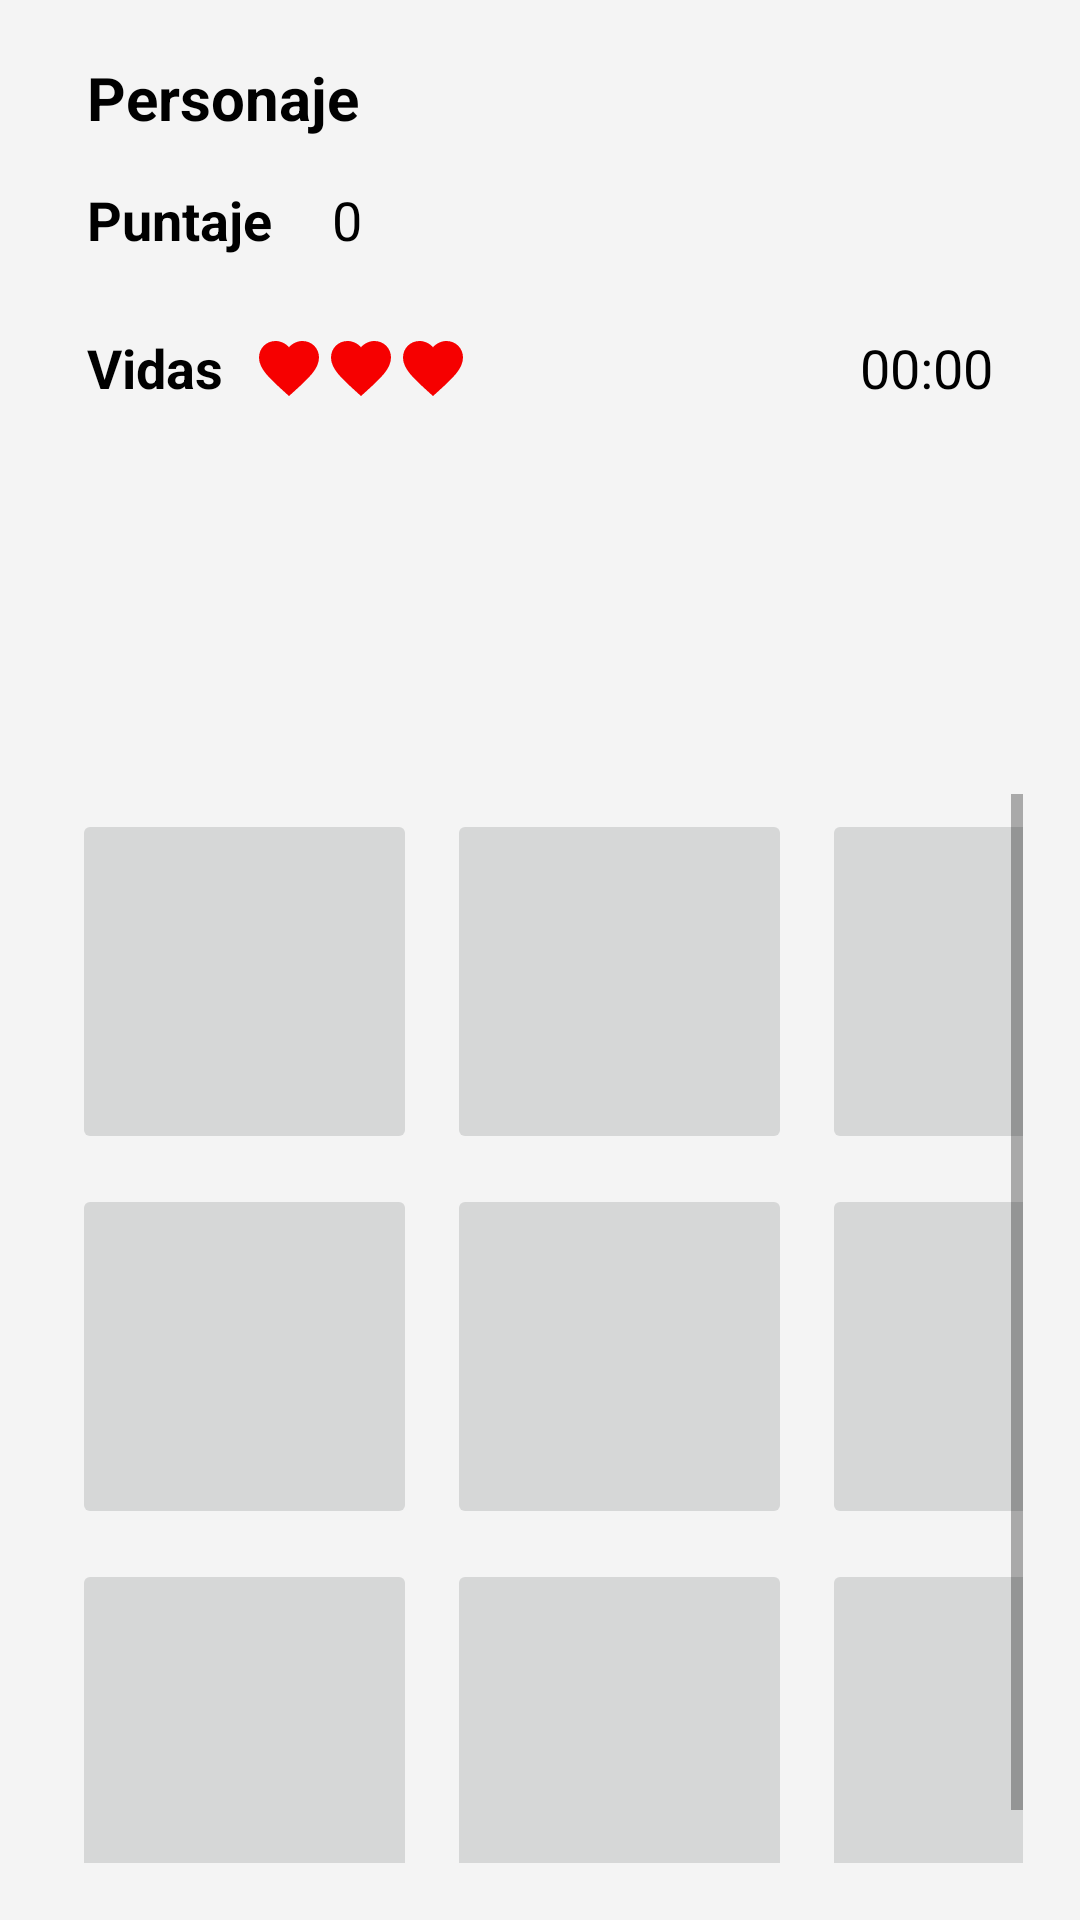

Icon click points for this 1080px×1920px phone screenshot, format [x,y]:
favorite: [289,368], [361,368], [433,368]
